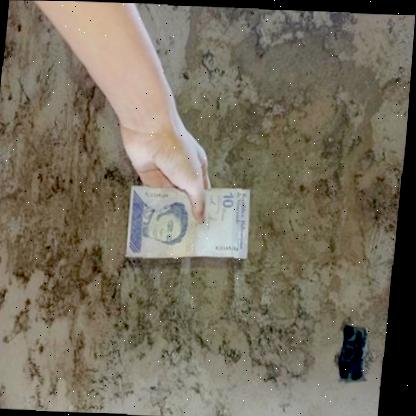ten-front-vef: (128, 184, 257, 259)
